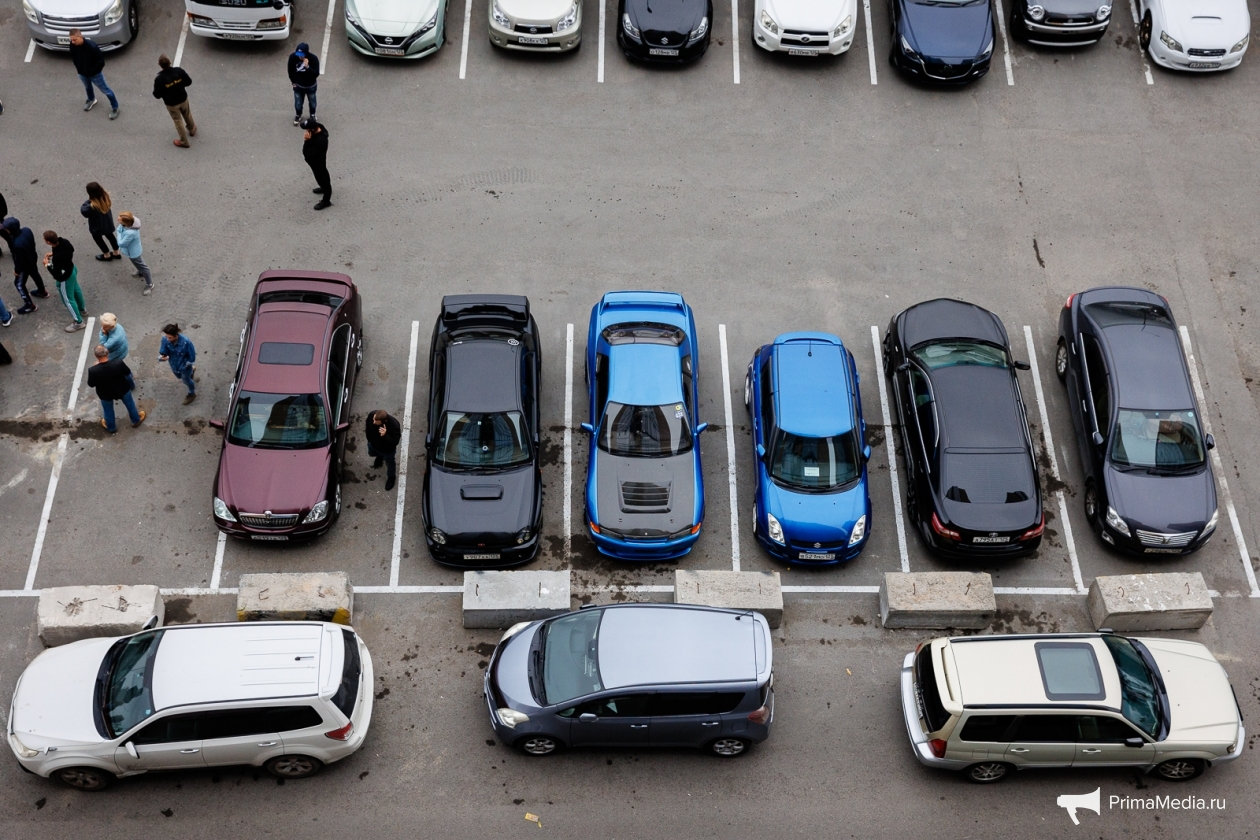Car: (6, 622, 373, 790), (902, 632, 1245, 783), (485, 604, 774, 757), (1055, 288, 1219, 555), (885, 299, 1045, 558), (212, 270, 364, 542), (581, 291, 707, 561), (422, 294, 543, 567), (744, 332, 871, 565), (890, 0, 994, 84), (1139, 0, 1251, 71), (22, 0, 139, 52), (753, 0, 857, 58), (344, 0, 445, 59), (618, 0, 712, 63), (488, 0, 583, 52), (1010, 0, 1113, 46), (186, 0, 294, 41)
